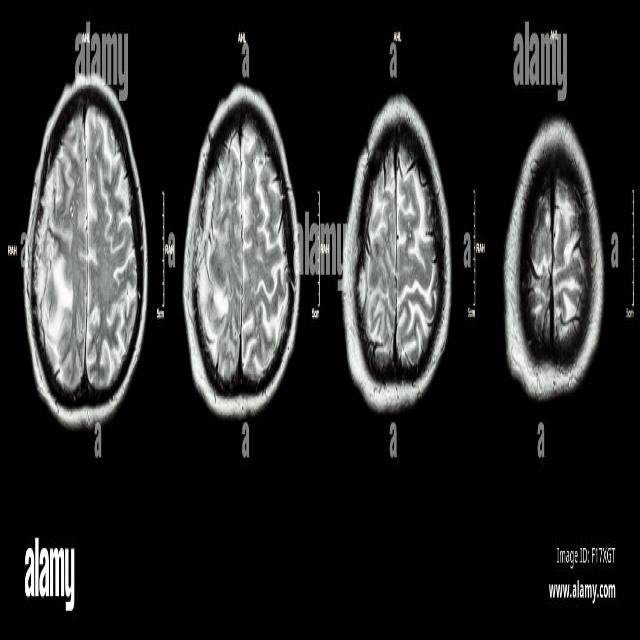Tumor: (42, 258, 61, 329)
